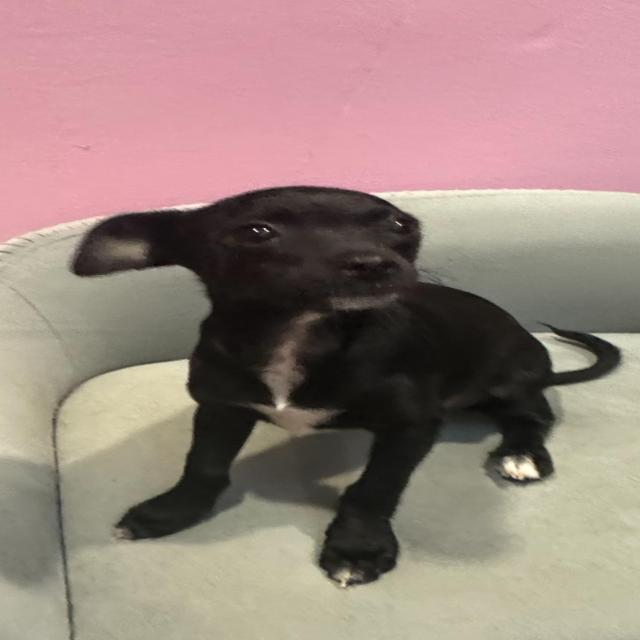chihuahua_dog: (60, 183, 452, 329)
